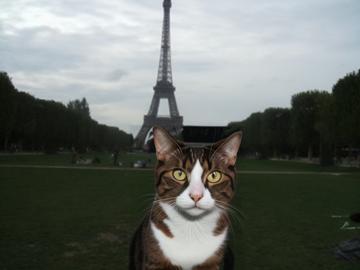cat: (130, 126, 244, 270)
